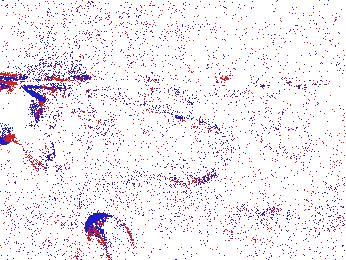flame jellyfish: (1, 84, 57, 174), (214, 201, 281, 260), (74, 212, 135, 260)
